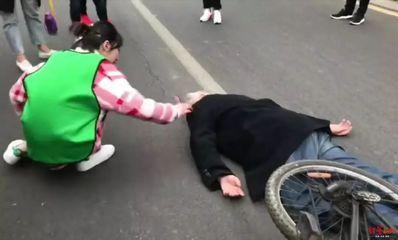Fall-Detected: (167, 76, 395, 235)
